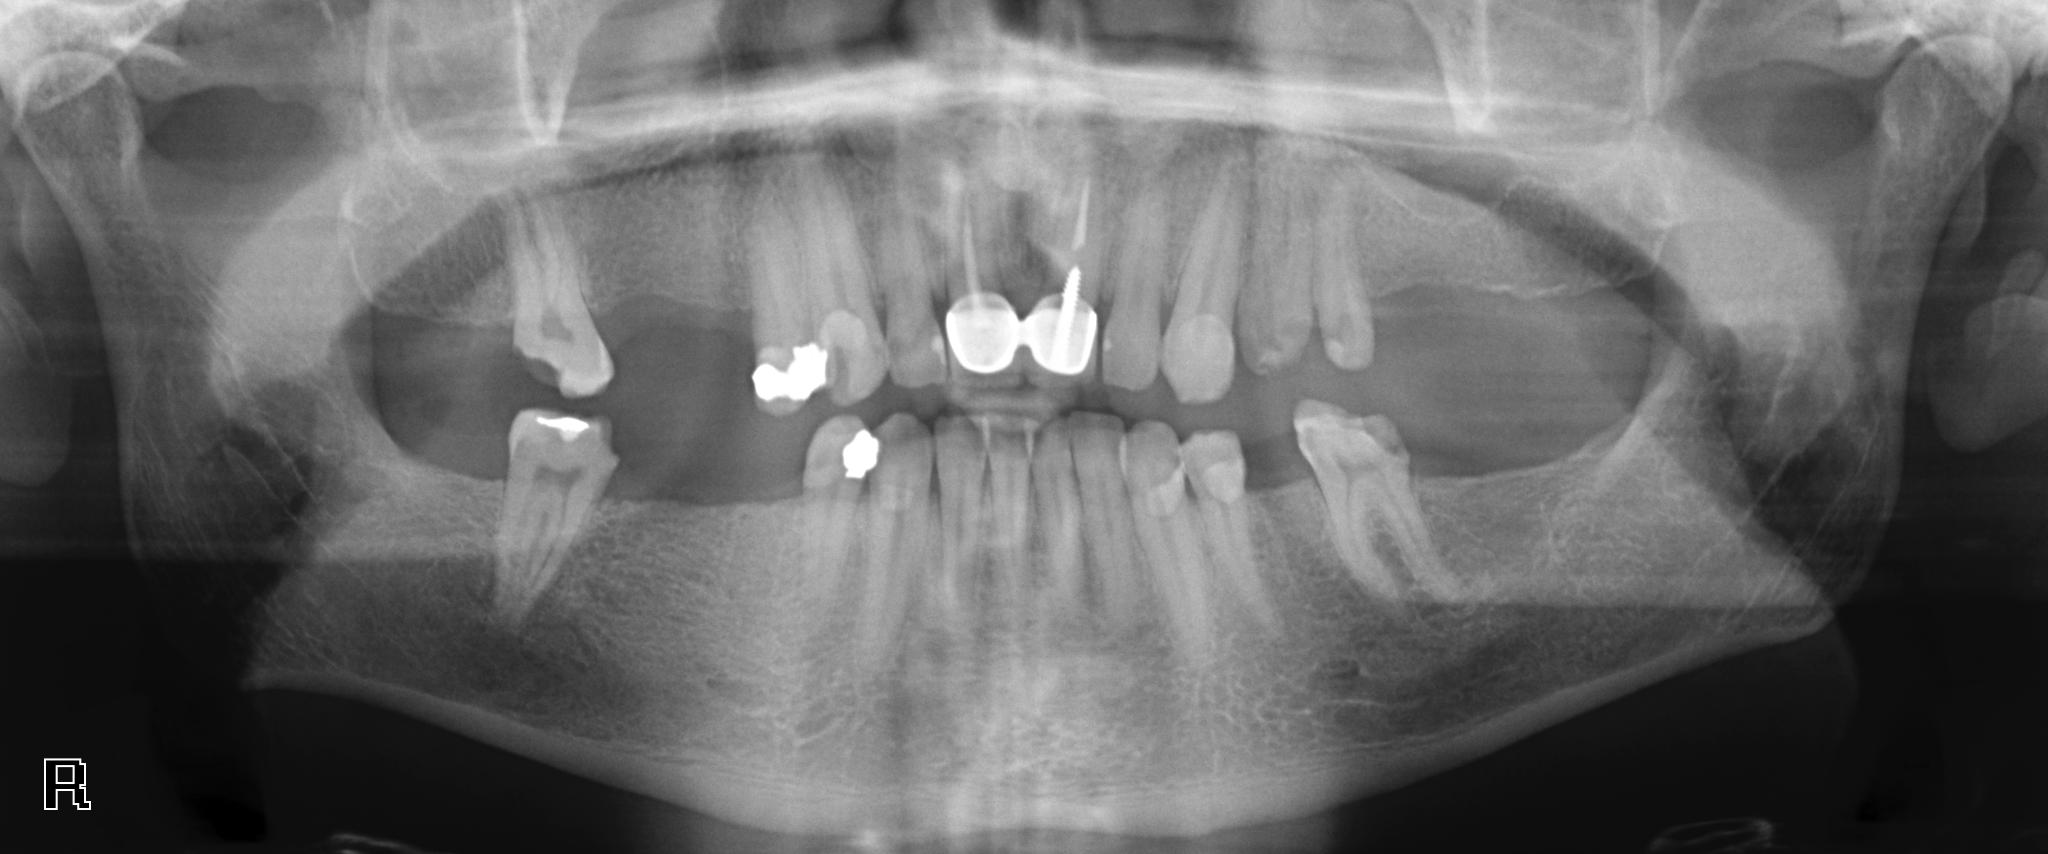Cavity: (1285, 398, 1437, 610), (500, 200, 618, 397)
Fillings: (792, 414, 878, 607), (744, 209, 824, 407), (46, 761, 88, 812)
Implant: (1016, 174, 1114, 384), (938, 187, 1024, 383)
